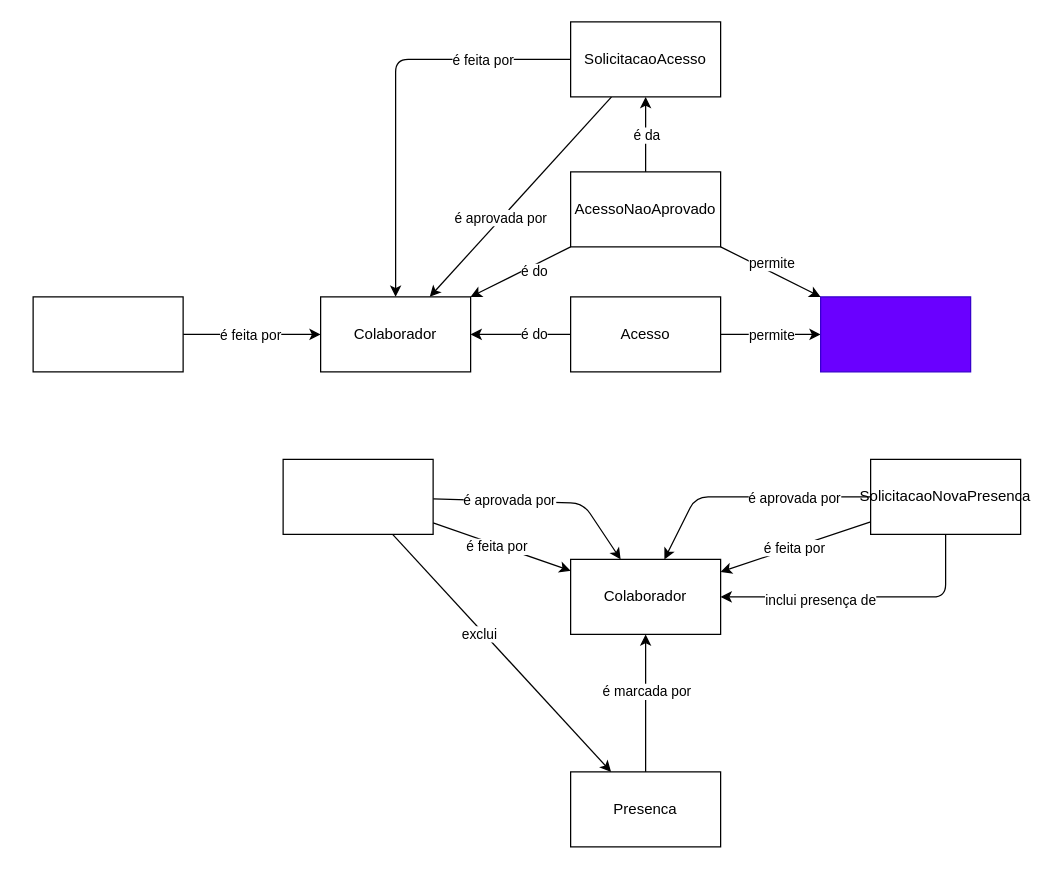
Image size: 1053x869. Some labels were removed from this diagram. Each missing label, with the box of its shape:
Funcionalidade: (819, 296, 971, 372)
SolicitacaoExclusaoConta: (32, 296, 183, 372)
SolicitacaoExclusaoPresenca: (282, 458, 433, 534)
